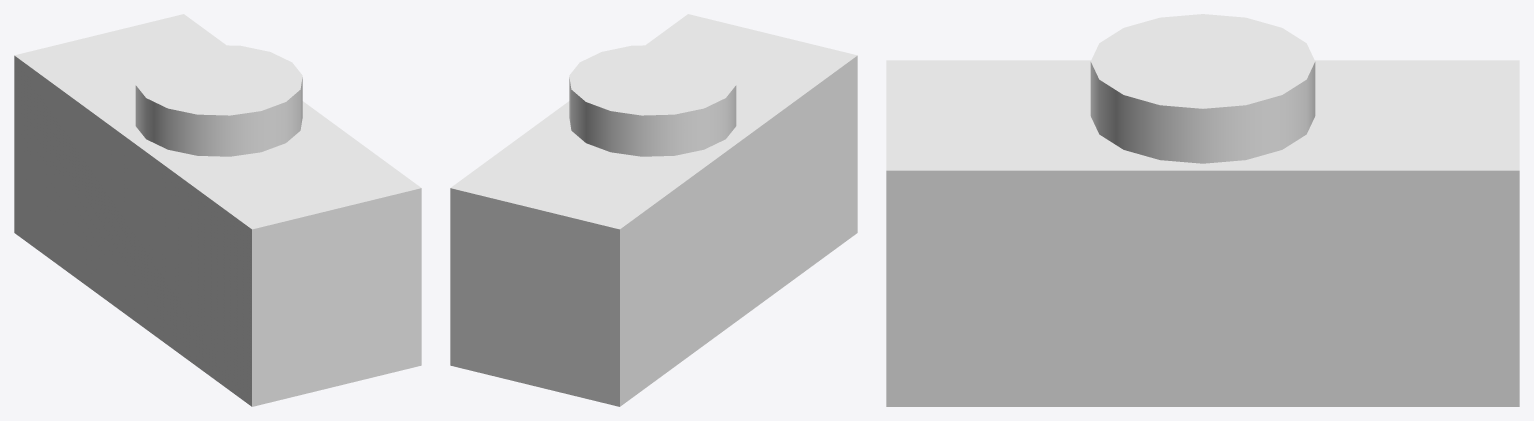
Rendered from LegoBrick.fbx.
3 views of the same model, side by side, from view 1: azimuth 30°, elevation 25°; view 2: azimuth 150°, elevation 25°; view 3: azimuth 270°, elevation 25° (orthographic). The views are drawn at different scales.
Parts seen in each view (by area): view 1: LegoBrick; view 2: LegoBrick; view 3: LegoBrick.
Part boxes in pixels (left/top/right/bottom): LegoBrick: left=14, top=14, right=421, bottom=406; LegoBrick: left=450, top=14, right=857, bottom=406; LegoBrick: left=886, top=14, right=1519, bottom=406.
Size of the model in its own units: 0.9354 by 1.15 by 2.27.
